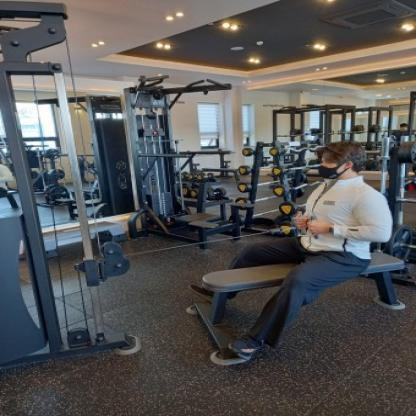Seated Cable Rows: (0, 4, 416, 416)
